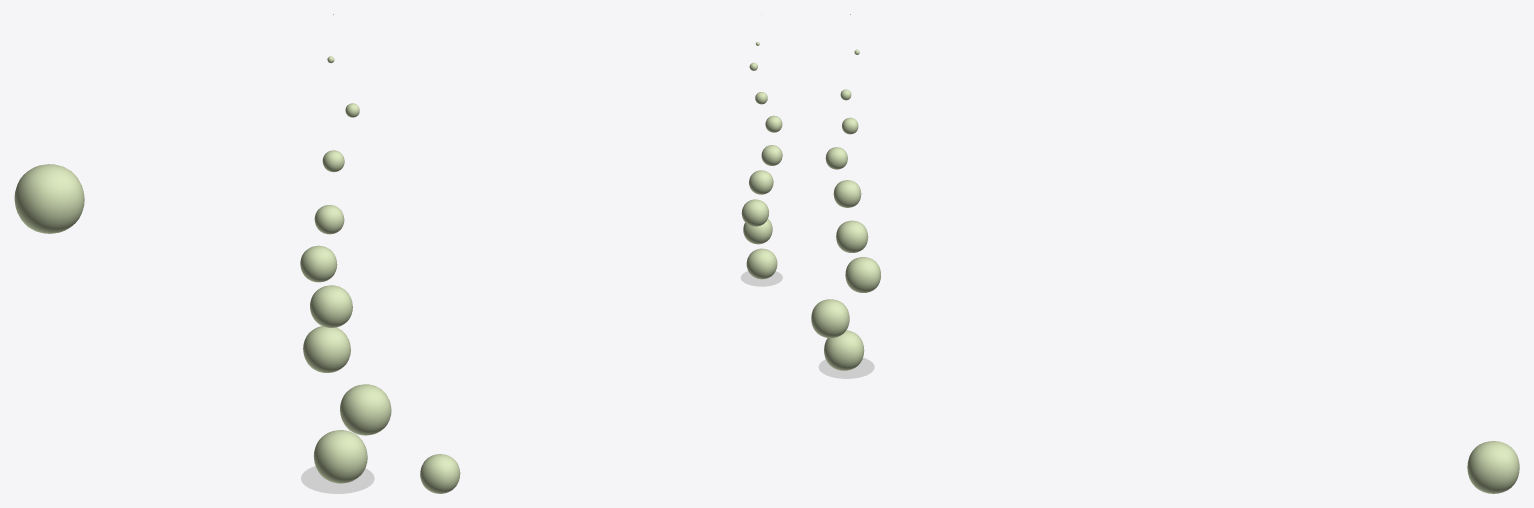
Rendered from smoke_factory.fbx.
3 renders of one model, left to right at view 1: azimuth 30°, elevation 25°; view 2: azimuth 150°, elevation 25°; view 3: azimuth 270°, elevation 25°, orthographic. The views are drawn at different scales.
Parts seen in each view (by area): view 1: Cube, Circle|Cube|Dupli|10, Circle|Cube|Dupli|9, Circle|Cube|Dupli|8, Circle|Cube|Dupli|7, Circle, Circle|Cube|Dupli|6, Circle|Cube|Dupli|5; view 2: Cube, Circle|Cube|Dupli|10, Circle|Cube|Dupli|8, Circle|Cube|Dupli|9, Circle|Cube|Dupli|7, Circle; view 3: Cube, Circle|Cube|Dupli|10, Circle|Cube|Dupli|9, Circle|Cube|Dupli|8, Circle|Cube|Dupli|7.
Part boxes in pixels (x1,y1,x2,y2): Cube: [14, 164, 84, 233]; Circle|Cube|Dupli|10: [313, 430, 367, 483]; Circle|Cube|Dupli|9: [340, 384, 391, 435]; Circle|Cube|Dupli|8: [303, 326, 350, 372]; Circle|Cube|Dupli|7: [310, 285, 352, 327]; Circle: [301, 466, 374, 493]; Circle|Cube|Dupli|6: [300, 245, 337, 282]; Circle|Cube|Dupli|5: [314, 205, 344, 234]; Cube: [420, 454, 460, 493]; Circle|Cube|Dupli|10: [746, 248, 777, 279]; Circle|Cube|Dupli|8: [741, 199, 768, 226]; Circle|Cube|Dupli|9: [743, 219, 772, 244]; Circle|Cube|Dupli|7: [749, 170, 773, 194]; Circle: [740, 271, 782, 286]; Cube: [1467, 441, 1519, 493]; Circle|Cube|Dupli|10: [824, 330, 864, 370]; Circle|Cube|Dupli|9: [811, 299, 849, 338]; Circle|Cube|Dupli|8: [845, 257, 880, 292]; Circle|Cube|Dupli|7: [836, 220, 868, 252].
Bounding box in the file's own units: 233 × 619 × 935.
